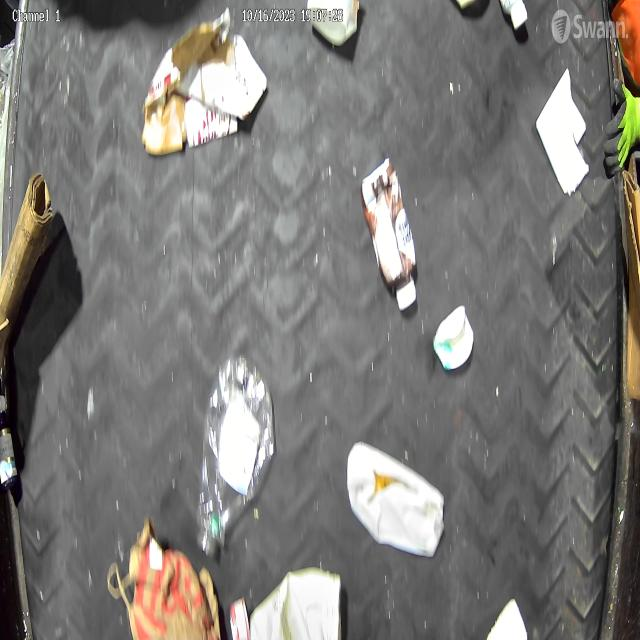can: (228, 593, 251, 640)
milk_jug: (344, 440, 450, 560), (249, 562, 344, 640)
plastic_bottle: (194, 347, 282, 558)
